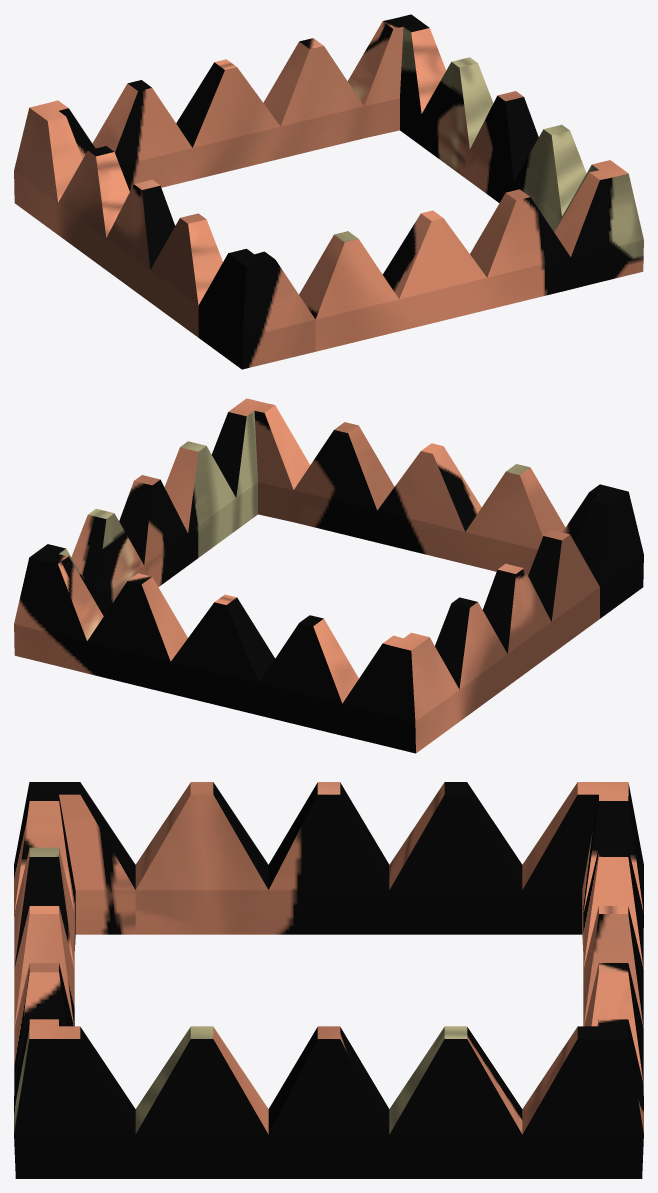
The model's file is Merlons_02.fbx.
3 views of the same model, one above another, from view 1: azimuth 30°, elevation 25°; view 2: azimuth 150°, elevation 25°; view 3: azimuth 270°, elevation 25° (orthographic). The views are drawn at different scales.
Visible parts, largest first — view 1: Merlons_02; view 2: Merlons_02; view 3: Merlons_02.
Boxes of the visible parts, <box> form: Merlons_02: <box>14,14,643,369</box>; Merlons_02: <box>14,398,643,753</box>; Merlons_02: <box>14,782,643,1178</box>.
Size of the model in its own units: 2.08 by 0.4817 by 2.05.
